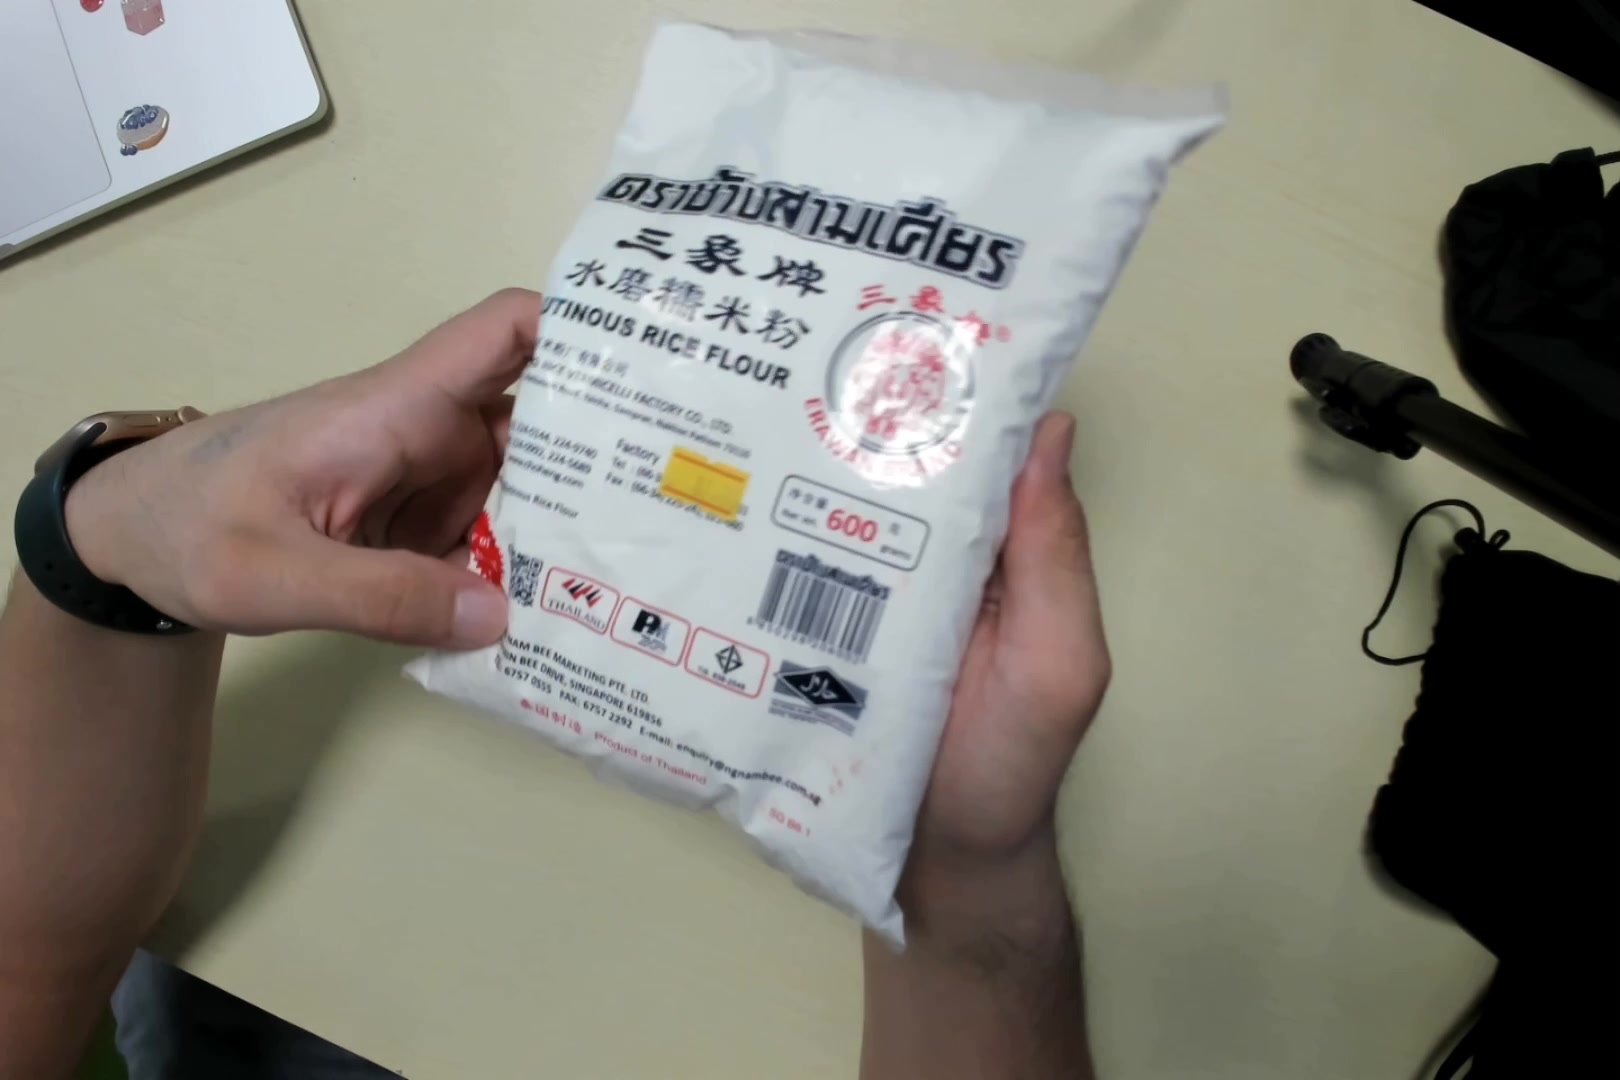OtherBakingNeeds_600-699g_Halal_NonHealthy: (418, 19, 1221, 961)
